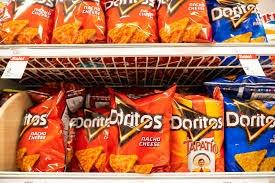snack: (105, 83, 177, 173)
